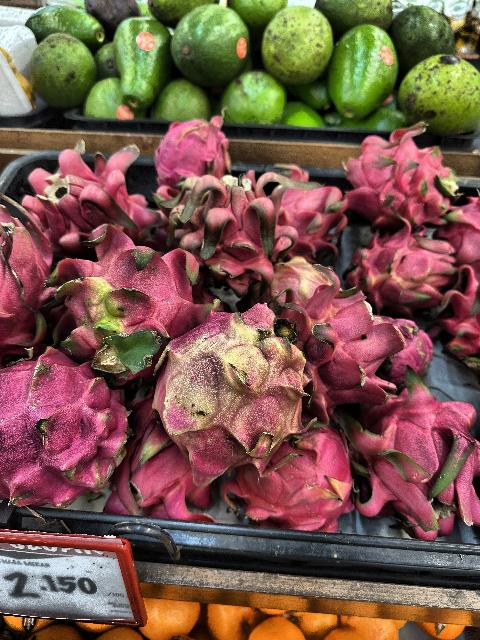buah-naga-belum-matang: (164, 298, 306, 477), (50, 235, 204, 378), (256, 254, 332, 310)
buah-naga-matang: (0, 351, 128, 513), (352, 384, 480, 536), (152, 161, 294, 291), (277, 281, 403, 419), (119, 396, 217, 532), (24, 145, 158, 243), (232, 423, 351, 529), (341, 136, 462, 230), (340, 218, 448, 304), (1, 196, 54, 346), (278, 164, 344, 268), (150, 113, 232, 175), (434, 262, 480, 364)
